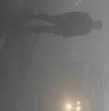person: (21, 8, 103, 38)
